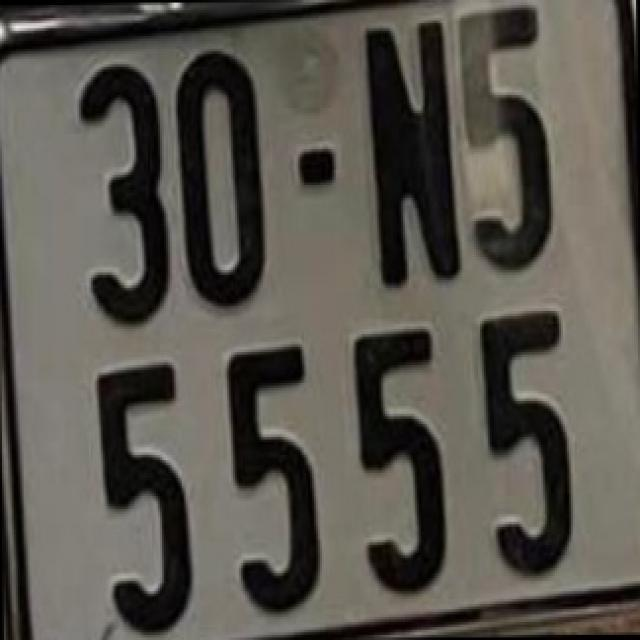0: (173, 41, 274, 311)
3: (71, 51, 174, 329)
5: (89, 352, 200, 635), (219, 336, 326, 620), (474, 301, 579, 584), (346, 319, 452, 599), (458, 2, 561, 276)
N: (354, 13, 464, 288)
